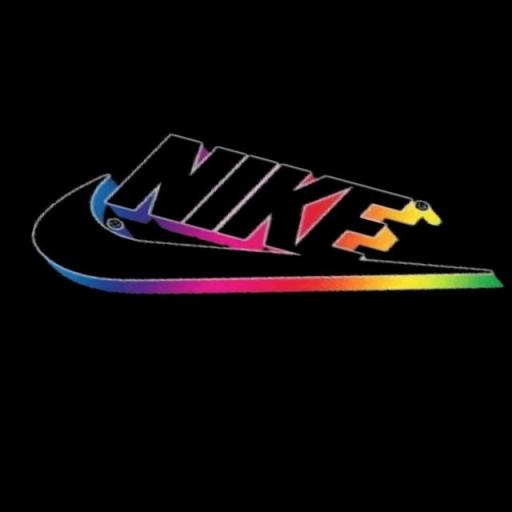Nike: (14, 147, 496, 391), (102, 118, 428, 292)
